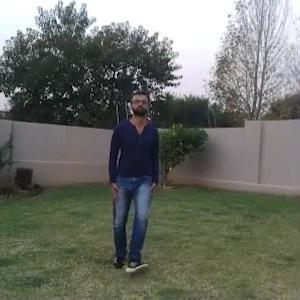follow: (106, 84, 160, 268)
